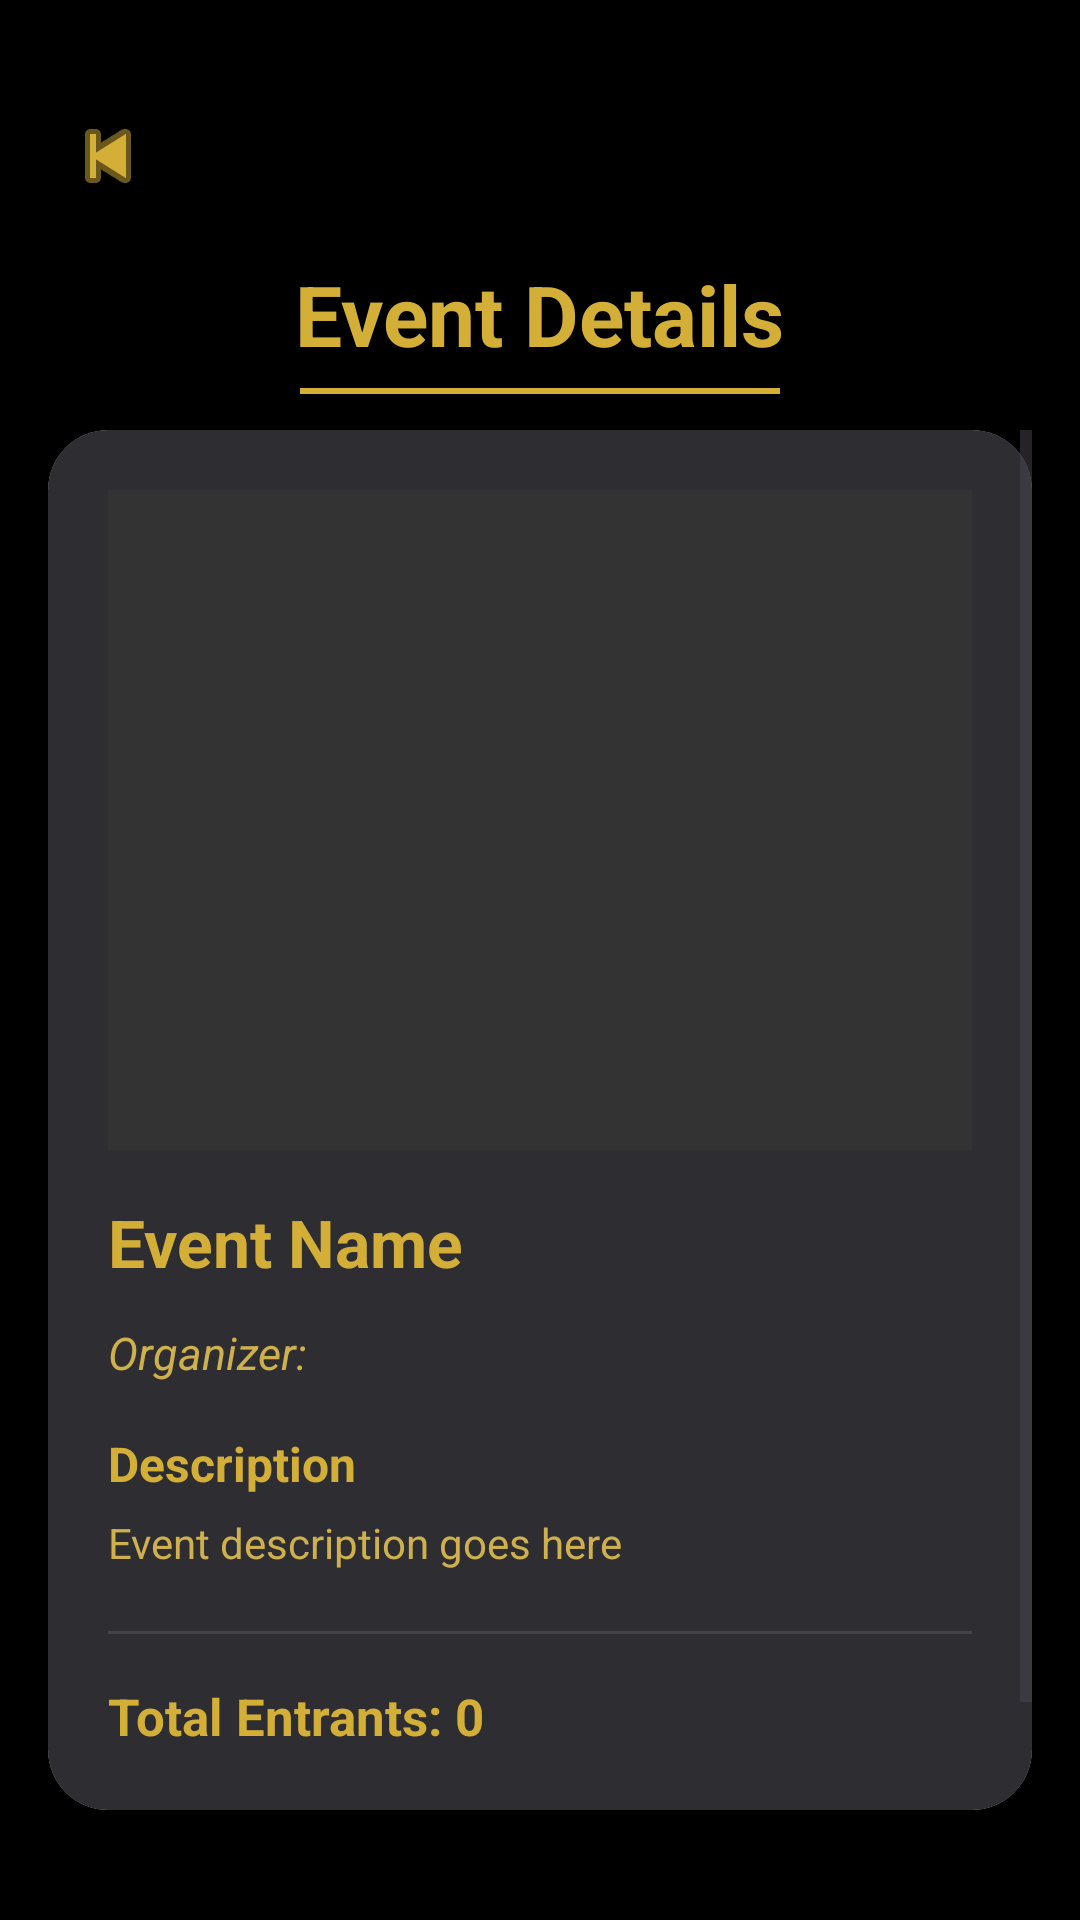

Screen size 1080×1920. Icon name, then its center in pixels as [x,y]:
previous: [108,156]
